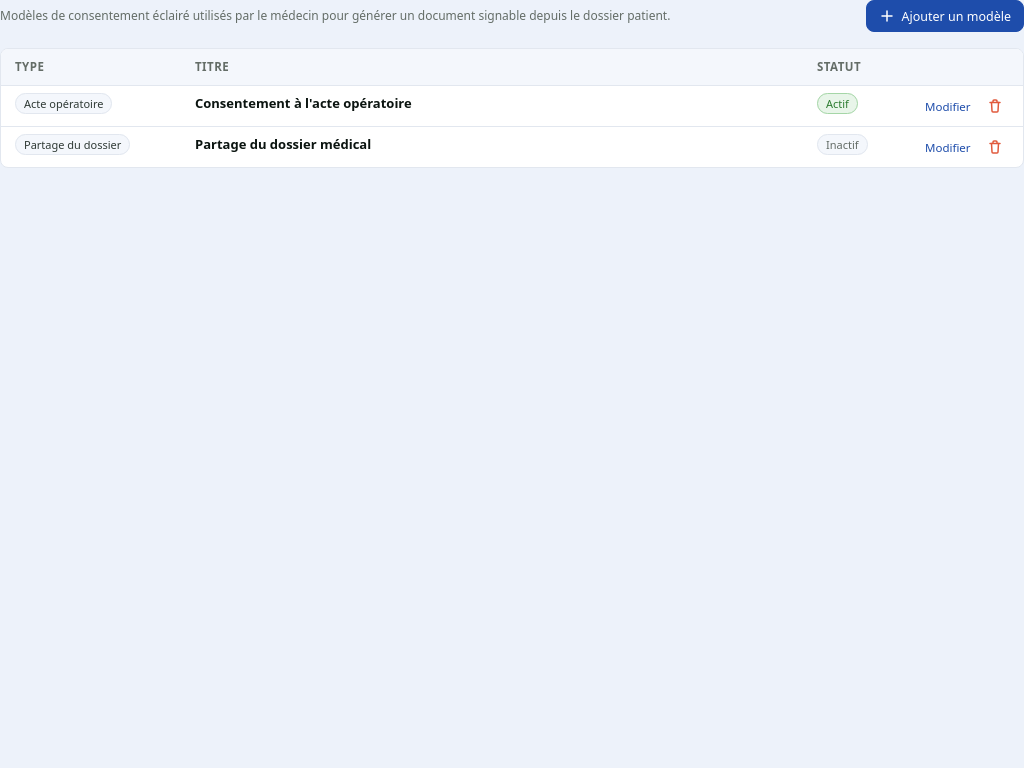
<ConsentTemplatesTab /> › opens the add-template drawer when clicking "Ajouter un modèle"
Click the button "Ajouter un modèle": point(945, 16) [866,0,1023,32]
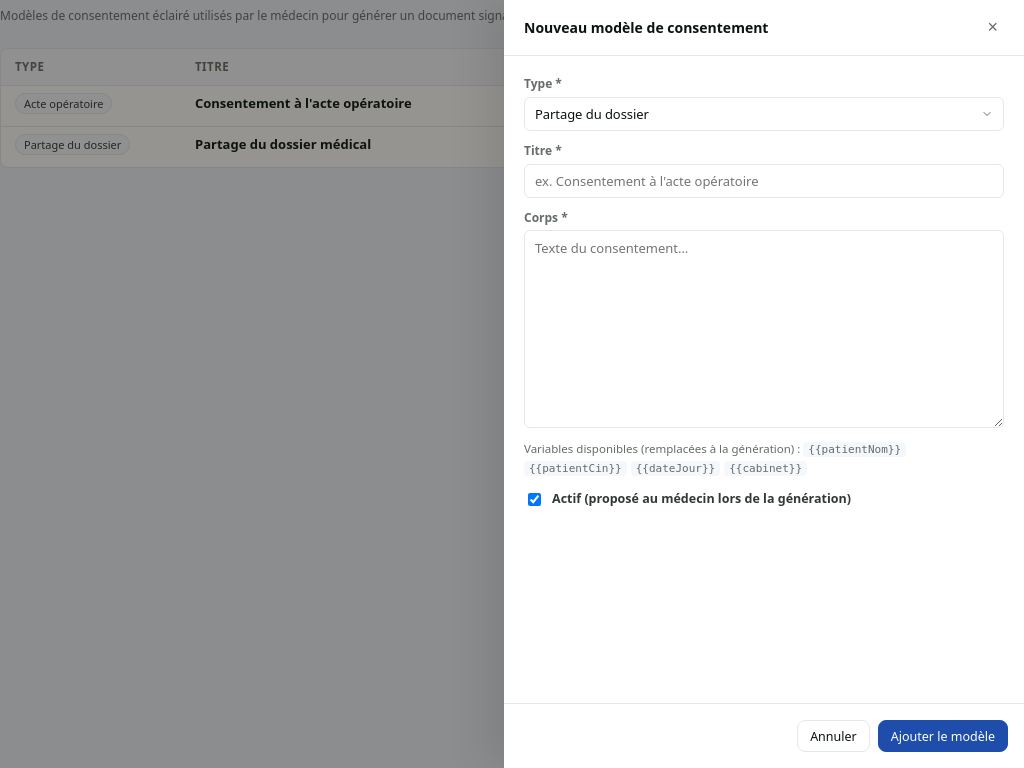
expect the dialog is shown: met
expect the heading "Nouveau modèle de consentement" is shown: met, box [524,18,768,37]
expect the field labelled "Titre *" is shown: met, box [524,164,1004,198]
